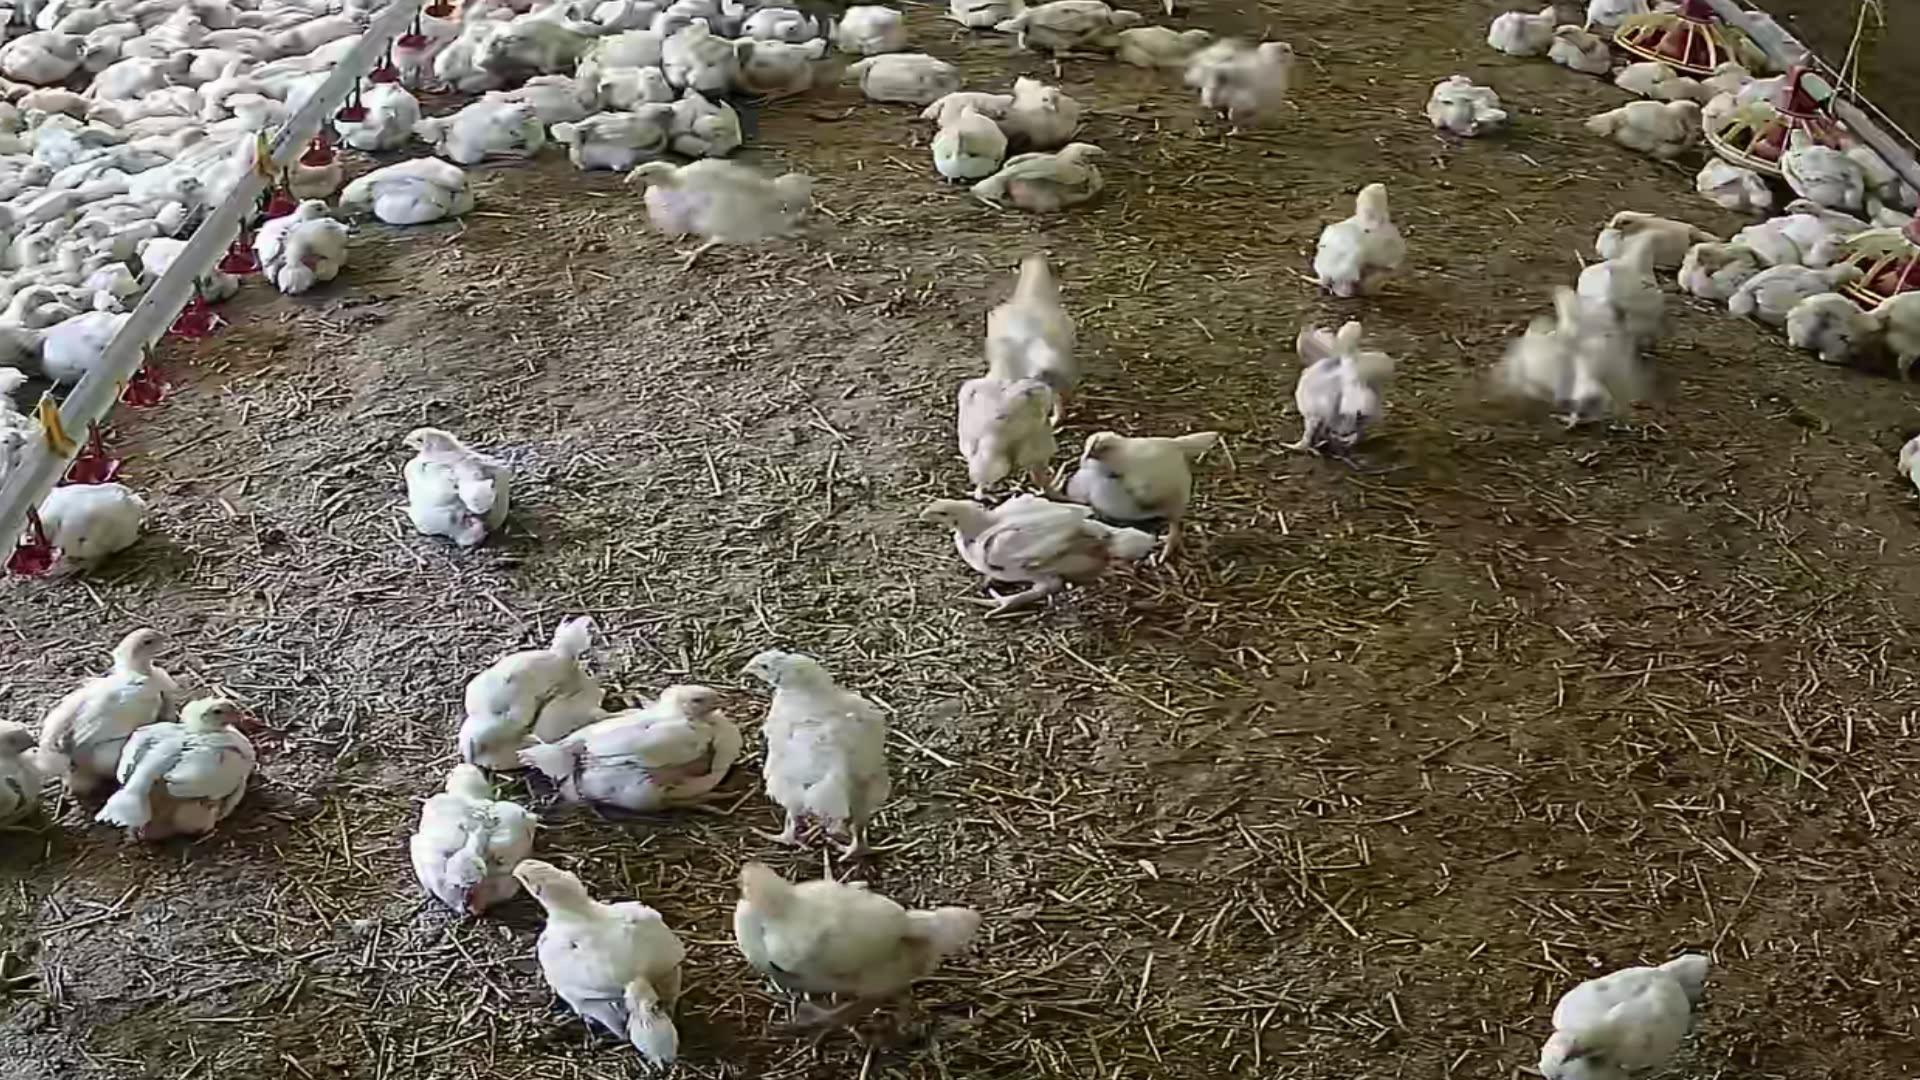poussin: (699, 847, 968, 1054), (481, 847, 699, 1058), (753, 630, 930, 866), (1486, 931, 1750, 1080), (906, 479, 1164, 629), (512, 676, 756, 833), (622, 152, 858, 303), (104, 666, 280, 864), (1491, 262, 1662, 462), (1254, 311, 1437, 496), (367, 738, 542, 911), (422, 626, 634, 761), (1284, 153, 1448, 322), (40, 609, 175, 790), (961, 251, 1117, 401), (3, 460, 158, 595), (378, 413, 522, 554), (1073, 419, 1236, 543), (248, 187, 392, 326), (934, 363, 1083, 488), (975, 128, 1141, 227), (1180, 25, 1321, 133), (340, 150, 496, 240), (409, 90, 566, 175), (1586, 185, 1706, 281), (847, 46, 985, 128), (1428, 53, 1523, 162), (1590, 98, 1713, 182), (554, 99, 707, 164), (326, 69, 439, 154), (1007, 0, 1129, 79), (649, 79, 760, 161), (0, 673, 49, 857), (1735, 252, 1873, 316), (492, 53, 621, 121), (1780, 287, 1876, 373), (46, 310, 142, 389), (136, 232, 240, 305), (727, 40, 839, 107), (920, 103, 1006, 190), (1675, 220, 1760, 306), (825, 0, 923, 67), (1477, 0, 1568, 70), (1007, 70, 1087, 149), (1779, 196, 1883, 256), (1788, 124, 1853, 216), (669, 22, 749, 96), (597, 8, 694, 66), (1553, 18, 1625, 96), (593, 55, 688, 112), (1618, 54, 1705, 113), (1704, 157, 1779, 225), (103, 123, 208, 170), (99, 50, 198, 99), (1870, 295, 1920, 390), (516, 17, 596, 75), (465, 25, 533, 94), (9, 33, 99, 84), (1114, 24, 1215, 67), (419, 25, 484, 91), (0, 287, 55, 364), (1, 236, 92, 282), (204, 16, 287, 66), (222, 83, 293, 141), (0, 371, 41, 471), (742, 5, 825, 51), (199, 54, 257, 120), (1880, 415, 1920, 509), (76, 16, 150, 66), (86, 215, 170, 257), (232, 0, 322, 38), (16, 83, 96, 124), (129, 167, 204, 211), (25, 111, 87, 164), (152, 9, 224, 54), (934, 0, 1015, 40), (57, 0, 128, 44), (78, 120, 199, 144), (90, 94, 203, 119), (1717, 55, 1776, 102), (0, 150, 59, 196), (0, 76, 36, 102), (69, 286, 96, 310), (53, 284, 76, 310)
